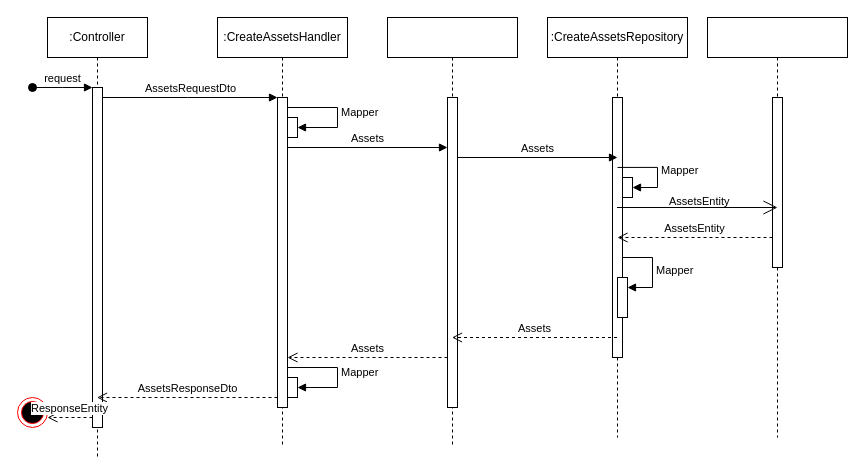
The diagram is 865 pixels wide and 475 high, and some of its shapes have lost their labels. The shapes that lost their labels are listed below. From the top down, each one's box as (x1, y1, x2, y2) in pixels, then its label:
(386, 16, 518, 448): :CreateAssetsService
(706, 16, 848, 438): :DataBaseH2
